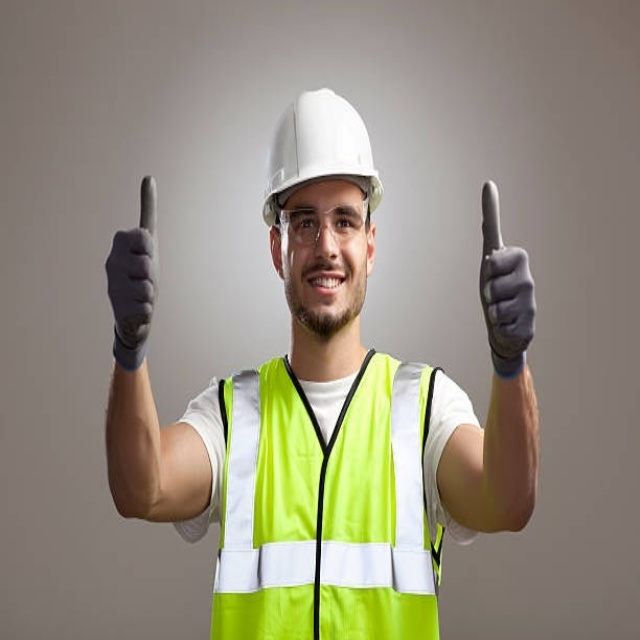Gafas: (278, 203, 369, 247)
Guantes: (480, 183, 536, 378), (106, 178, 160, 370)
Sin_mascara: (299, 262, 353, 315)
